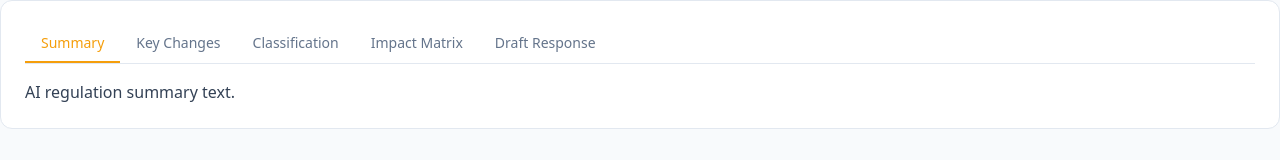
Test case: EnrichmentPanel › switches to key changes tab
This screenshot has width=1280, height=160.
Click the tab "Key Changes": point(178, 44) [120, 25, 237, 63]
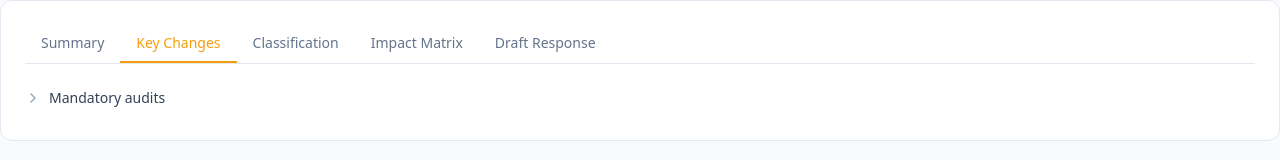
Check: the text "Mandatory audits" is shown, box [49, 88, 165, 108]
